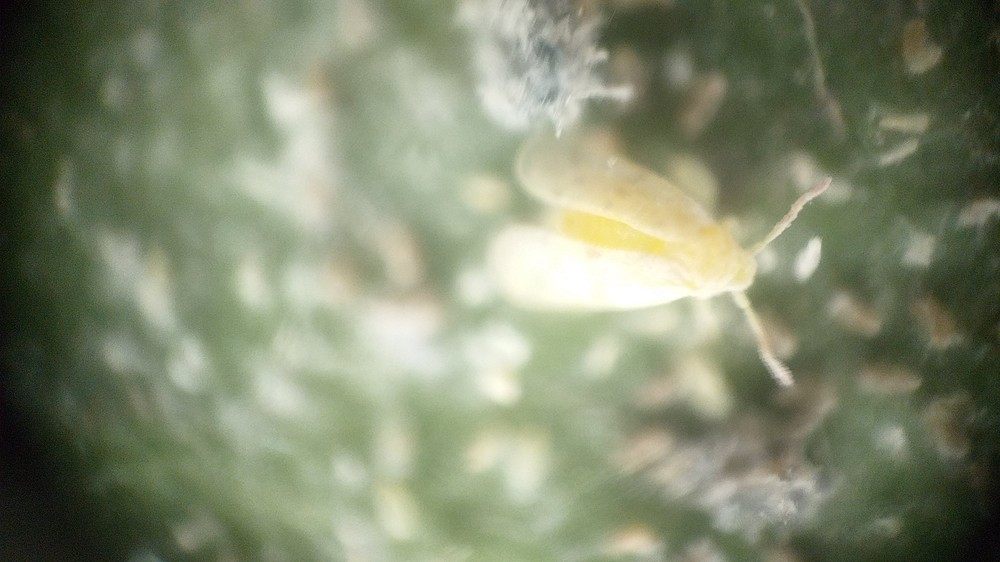Mosca Blanca: (489, 118, 842, 422)
